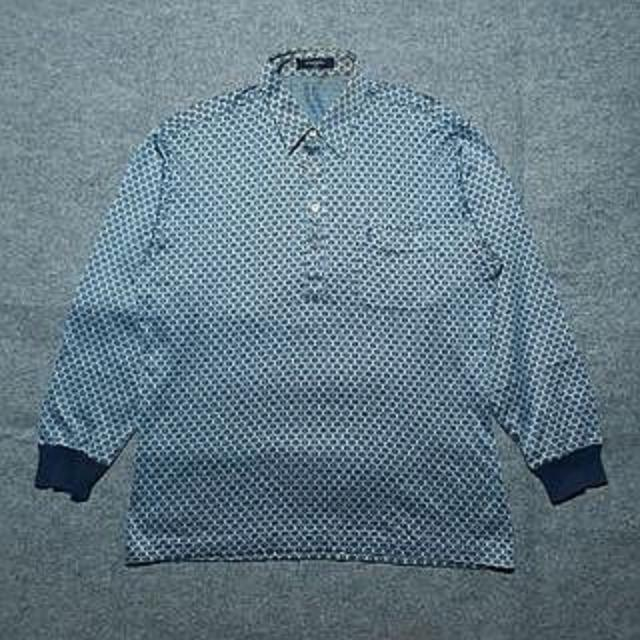SHIRT: (25, 40, 638, 573)
